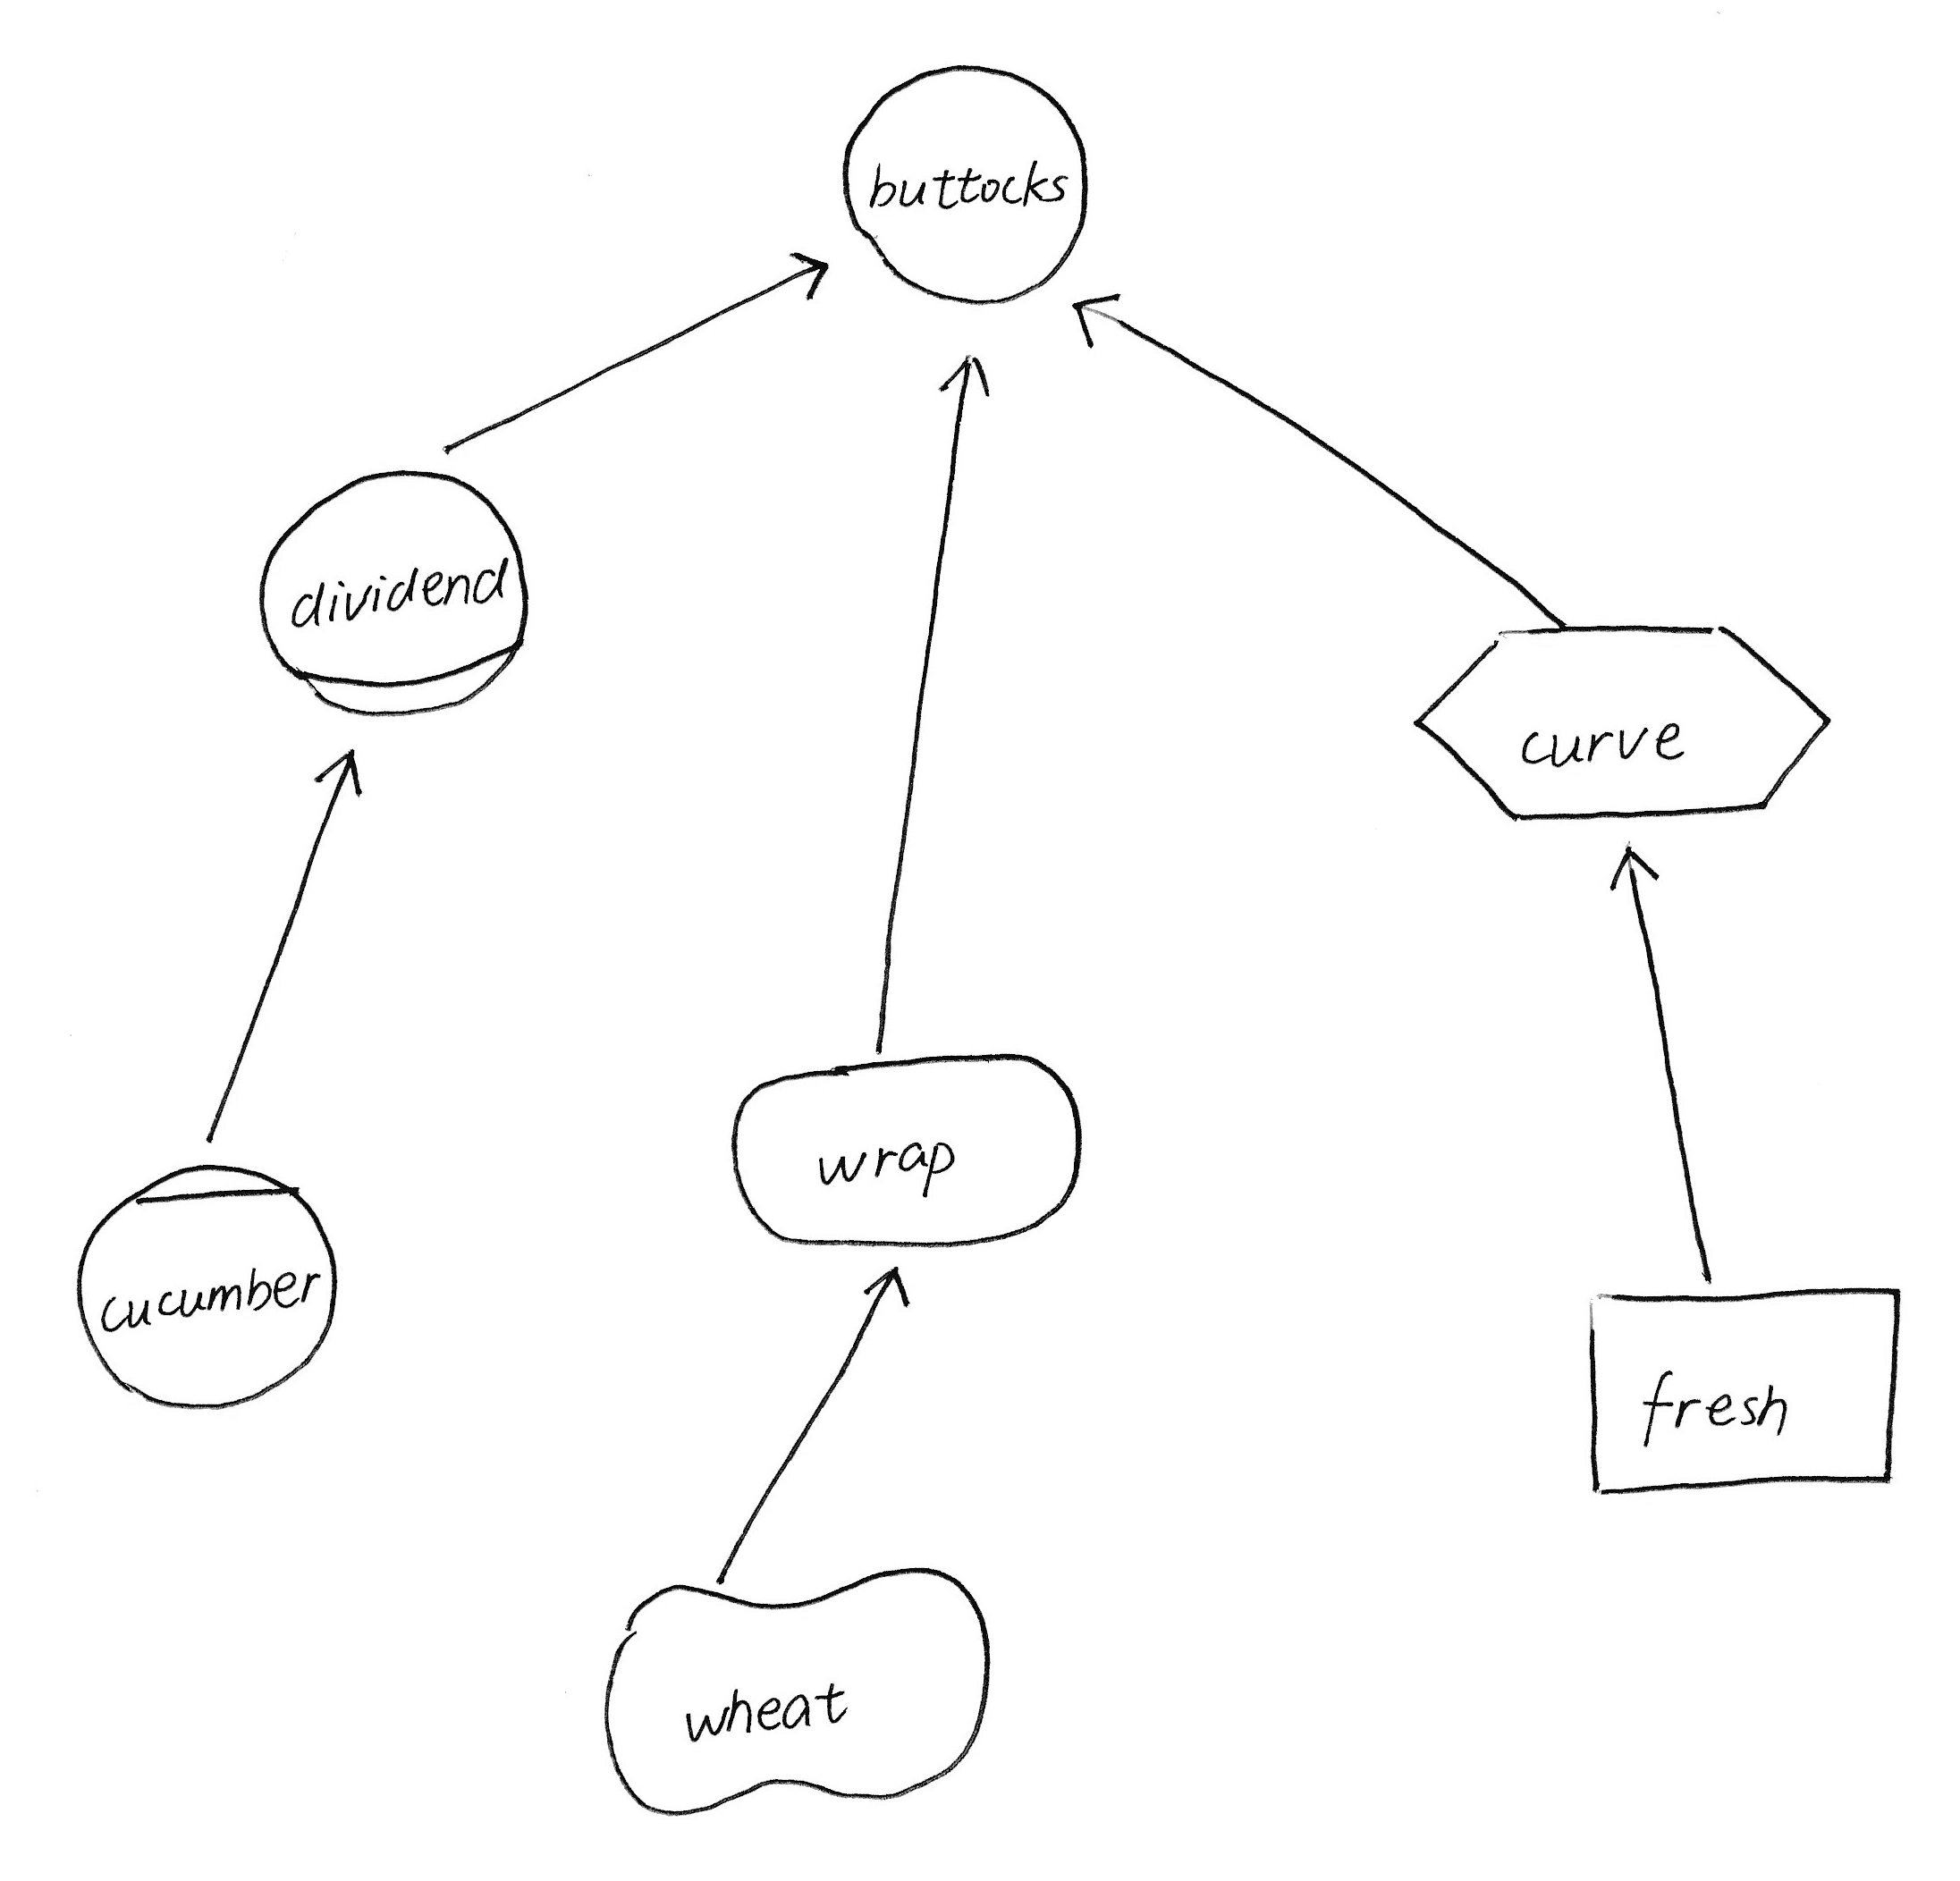actor: (819, 44, 1111, 322)
agent: (56, 1146, 357, 1426)
arrow: (1052, 275, 1139, 352), (926, 338, 1008, 416), (849, 1249, 922, 1330), (303, 731, 376, 808), (1599, 828, 1664, 912), (782, 236, 843, 318)
goal: (709, 1036, 1108, 1269)
quality: (579, 1543, 1010, 1830)
resource: (1559, 1272, 1918, 1510)
role: (240, 451, 548, 733)
task: (1396, 602, 1855, 845)
